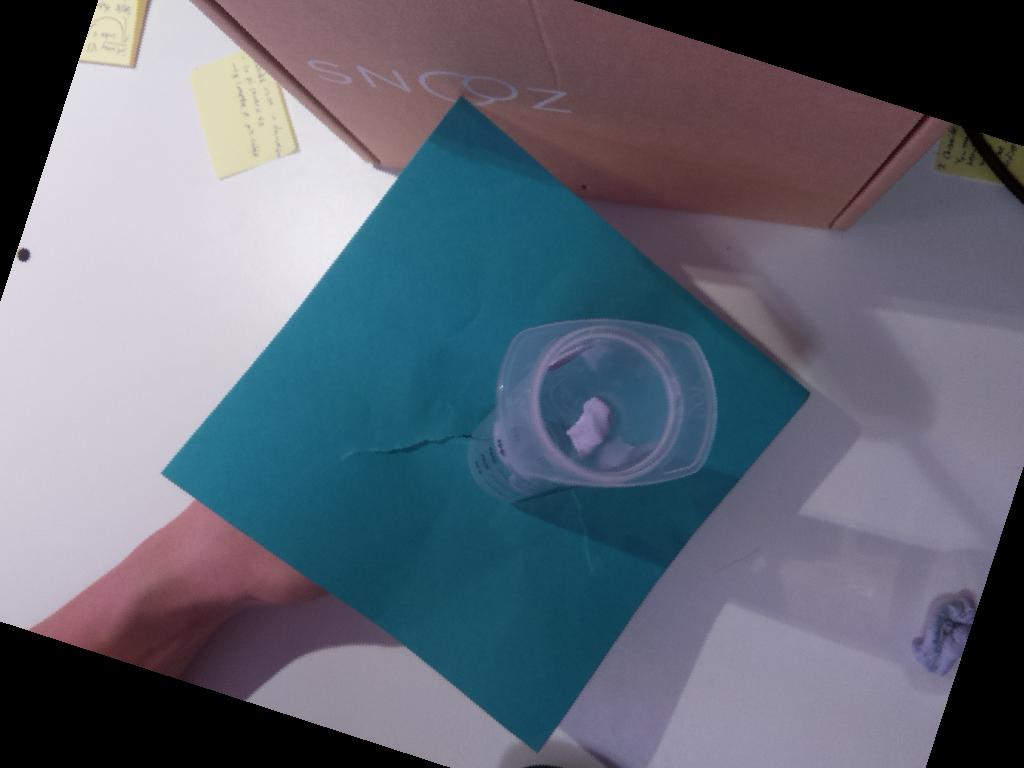dirty: (498, 319, 720, 488)
